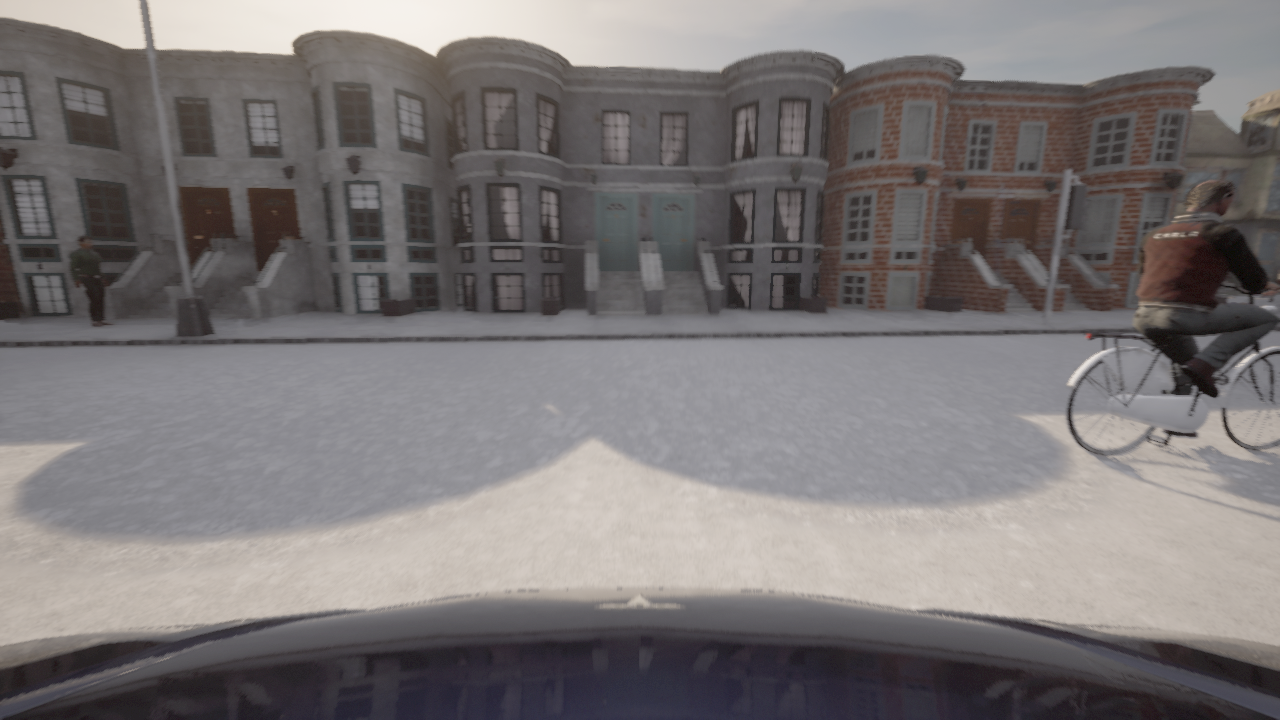cyclist: (0, 588, 1279, 719), (1066, 284, 1279, 455)
pedestrian: (69, 236, 114, 326)
